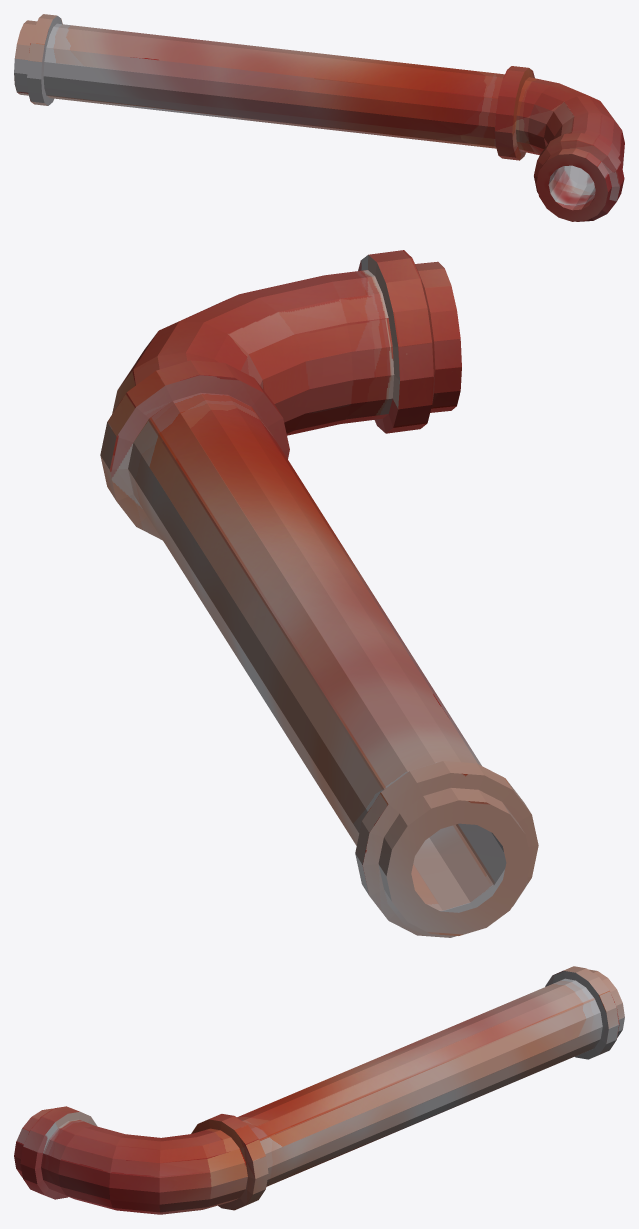
Rendered from Single_Pipes.fbx.
3 views of the same model, one above another, from view 1: azimuth 30°, elevation 25°; view 2: azimuth 150°, elevation 25°; view 3: azimuth 270°, elevation 25° (orthographic). The views are drawn at different scales.
Parts seen in each view (by area): view 1: Cylinder.003; view 2: Cylinder.003; view 3: Cylinder.003.
Part boxes in pixels (x1,y1,x2,y2): Cylinder.003: (14,14,624,221); Cylinder.003: (100,250,538,937); Cylinder.003: (14,966,624,1214).
Bounding box in the file's own units: 1220 × 249 × 1588.
1 material, 1 textured.
